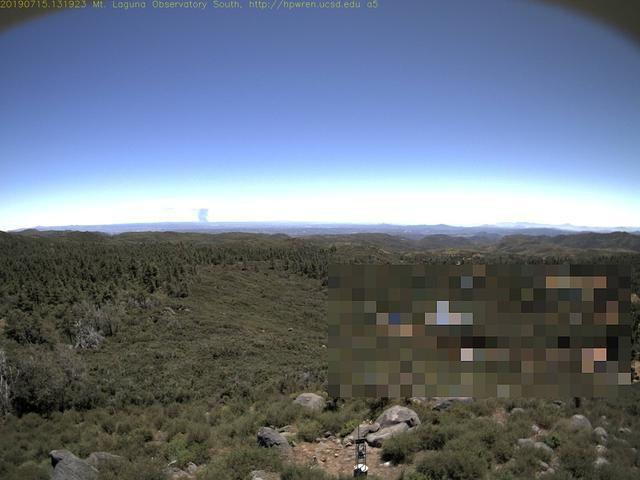smoke: (195, 204, 213, 229)
